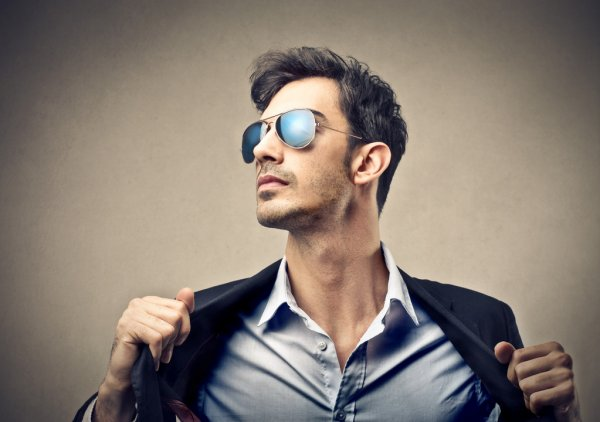glasses: (228, 96, 334, 165)
